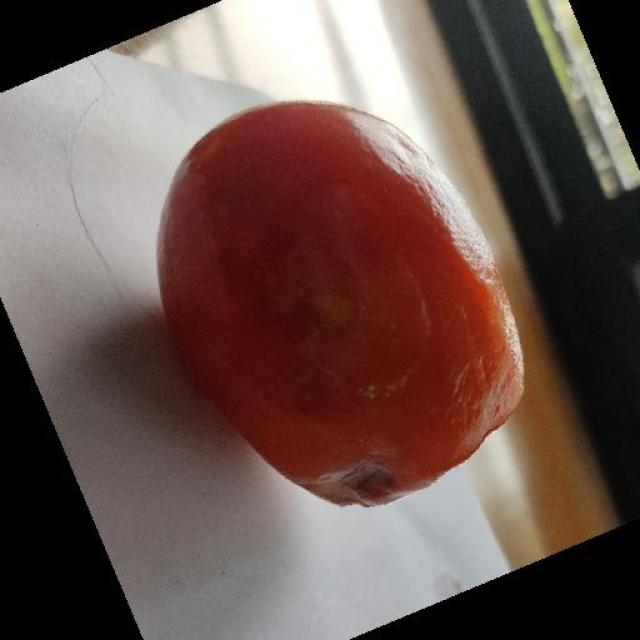Stale_tomato: (170, 113, 508, 473)
